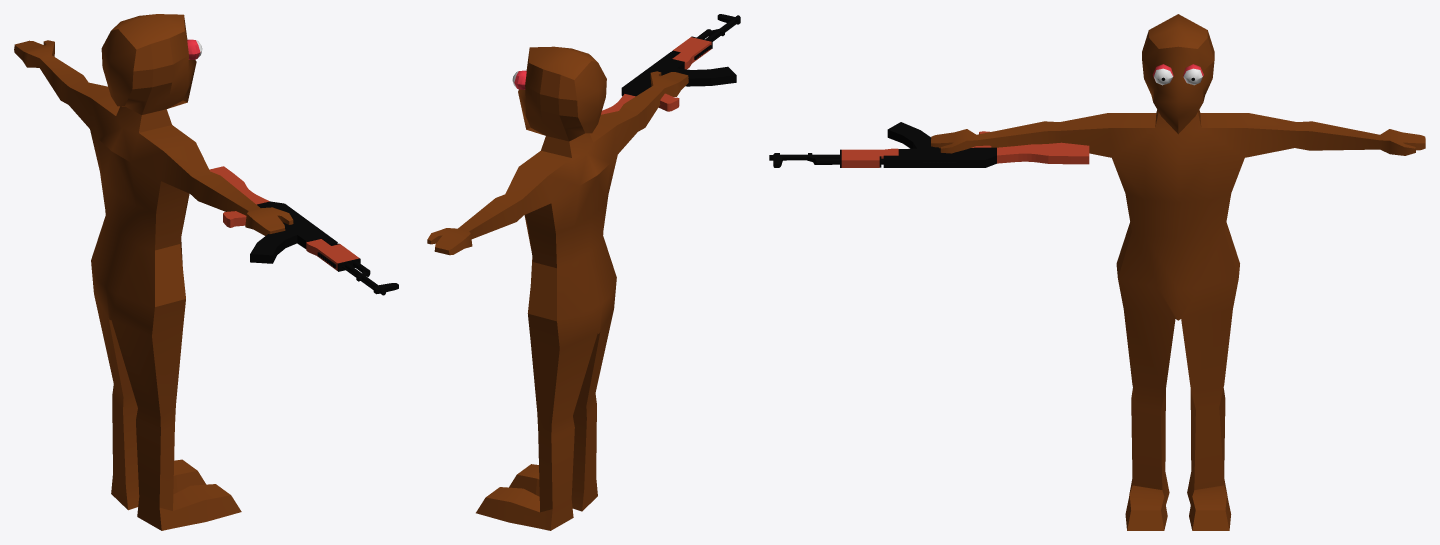
The model's file is Character_With_gun.fbx.
3 renders of one model, left to right at view 1: azimuth 30°, elevation 25°; view 2: azimuth 150°, elevation 25°; view 3: azimuth 270°, elevation 25°, orthographic. The views are drawn at different scales.
Parts seen in each view (by area): view 1: P_Character_with_gun; view 2: P_Character_with_gun; view 3: P_Character_with_gun.
Part boxes in pixels (<box>): P_Character_with_gun: <box>14,14,398,530</box>; P_Character_with_gun: <box>427,14,740,530</box>; P_Character_with_gun: <box>769,14,1425,530</box>.
Bounding box in the file's own units: 275 × 1187 × 1480.
